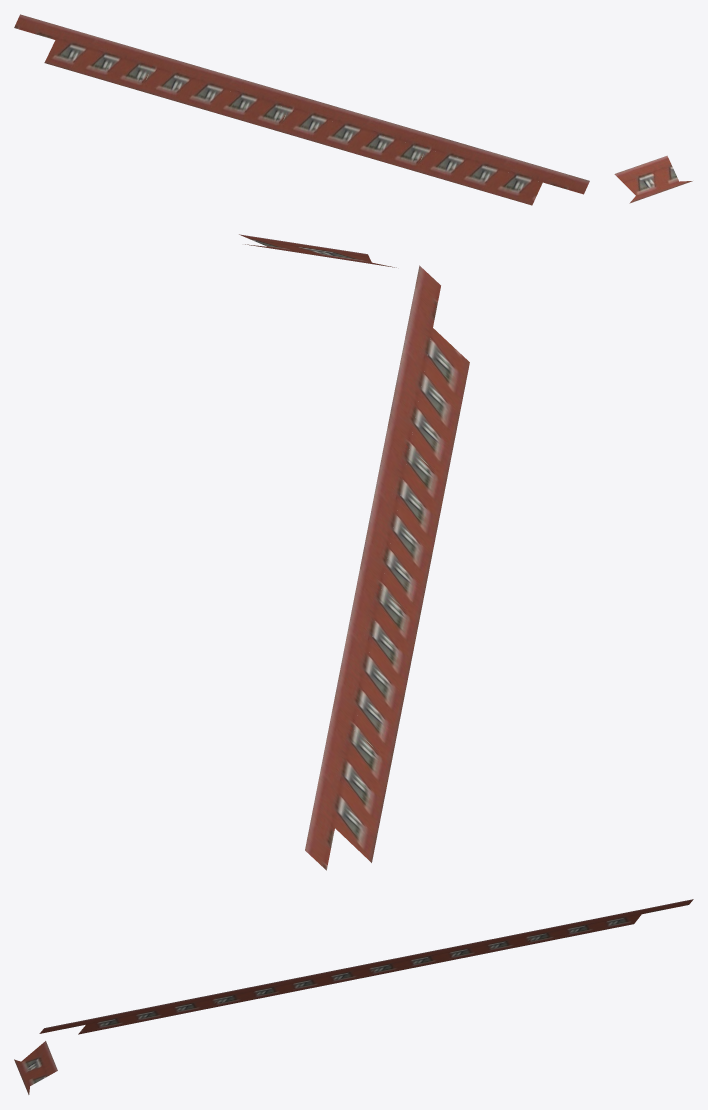
3 views of the same model, one above another, from view 1: azimuth 30°, elevation 25°; view 2: azimuth 150°, elevation 25°; view 3: azimuth 270°, elevation 25° (orthographic). The views are drawn at different scales.
Bounding box in the file's own units: 65.19 × 4.65 × 102.
Materials: 1 (1 with a texture image).
